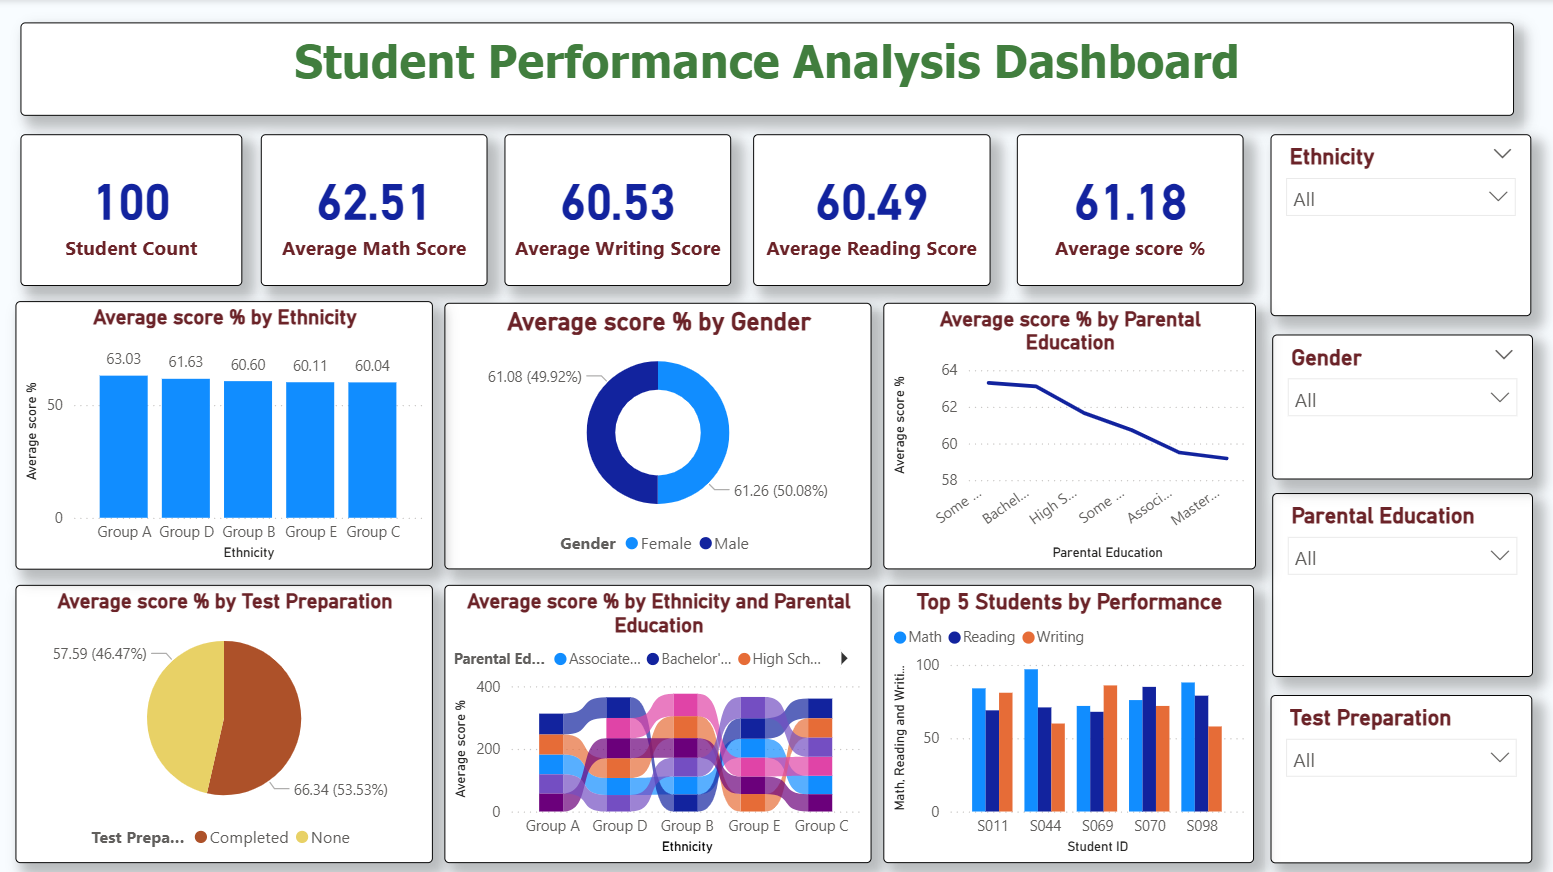

The dashboard page shown, as its layout file describes it:
{"tool":"powerbi","page":{"name":"Page 1","canvas":[1280,720],"ordinal":0},"visuals":[{"type":"textbox","box":[19.2,19.2,1228.1,76.8],"z":0},{"type":"card","fields":{"Values":["Sheet1.Student Count"]},"box":[19.2,111.1,182.5,124.9],"z":1000},{"type":"card","fields":{"Values":["Avg(Sheet1.Math Score)"]},"box":[216.8,111.1,186.6,124.9],"z":2000},{"type":"card","fields":{"Values":["Avg(Sheet1.Writing Score)"]},"box":[417.2,111.1,186.6,124.9],"z":3000},{"type":"card","fields":{"Values":["Avg(Sheet1.Reading Score)"]},"box":[621.6,111.1,194.9,124.9],"z":4000},{"type":"card","fields":{"Values":["Sheet1.Average score %"]},"box":[838.4,111.1,186.6,124.9],"z":5000},{"type":"slicer","fields":{"Values":["Sheet1.Ethnicity"]},"box":[1047,111.1,214.1,149.6],"z":6000},{"type":"slicer","fields":{"Values":["Sheet1.Parental Education"]},"box":[1048.4,406.2,214.1,150.9],"z":7000},{"type":"slicer","fields":{"Values":["Sheet1.Test Preparation"]},"box":[1047,572.2,215.4,138.6],"z":8000},{"type":"slicer","fields":{"Values":["Sheet1.Gender"]},"box":[1048.4,275.8,214.1,119.4],"z":9000},{"type":"donutChart","fields":{"Y":["Sheet1.Average score %"],"Category":["Sheet1.Gender"]},"box":[367.8,249.7,351.3,219.6],"z":10000},{"type":"pieChart","fields":{"Y":["Sheet1.Average score %"],"Category":["Sheet1.Test Preparation"]},"box":[19.2,481.6,338.9,229.2],"z":11000},{"type":"ribbonChart","fields":{"Y":["Sheet1.Average score %"],"Category":["Sheet1.Ethnicity"],"Series":["Sheet1.Parental Education"]},"box":[367.8,481.6,351.3,229.2],"z":12000},{"type":"columnChart","fields":{"Y":["Sheet1.Average score %"],"Category":["Sheet1.Ethnicity"]},"box":[19.2,248.4,338.9,220.9],"z":13000},{"type":"lineChart","fields":{"Category":["Sheet1.Parental Education"],"Y":["Sheet1.Average score %"]},"box":[728.6,249.7,306,219.6],"z":14000},{"type":"clusteredColumnChart","title":"Top 5 Students by Performance","fields":{"Category":["Sheet1.Student ID"],"Y":["Sum(Sheet1.Math Score)","Sum(Sheet1.Reading Score)","Sum(Sheet1.Writing Score)"]},"box":[728.6,481.6,304.6,229.2],"z":15000}]}

Visuals, with their boxes in screenshot pixels (x1, y1, x2, y2), scaled from the page's 1280x720 canvas onto the 1553x872 screenshot:
textbox: [left=23, top=23, right=1513, bottom=116]
card - Sheet1.Student Count: [left=23, top=135, right=245, bottom=286]
card - Avg(Sheet1.Math Score): [left=263, top=135, right=489, bottom=286]
card - Avg(Sheet1.Writing Score): [left=506, top=135, right=733, bottom=286]
card - Avg(Sheet1.Reading Score): [left=754, top=135, right=991, bottom=286]
card - Sheet1.Average score %: [left=1017, top=135, right=1244, bottom=286]
slicer - Sheet1.Ethnicity: [left=1270, top=135, right=1530, bottom=316]
slicer - Sheet1.Parental Education: [left=1272, top=492, right=1532, bottom=675]
slicer - Sheet1.Test Preparation: [left=1270, top=693, right=1532, bottom=861]
slicer - Sheet1.Gender: [left=1272, top=334, right=1532, bottom=479]
donutChart - Sheet1.Average score % x Sheet1.Gender: [left=446, top=302, right=872, bottom=568]
pieChart - Sheet1.Average score % x Sheet1.Test Preparation: [left=23, top=583, right=434, bottom=861]
ribbonChart - Sheet1.Average score % x Sheet1.Ethnicity: [left=446, top=583, right=872, bottom=861]
columnChart - Sheet1.Average score % x Sheet1.Ethnicity: [left=23, top=301, right=434, bottom=568]
lineChart - Sheet1.Parental Education x Sheet1.Average score %: [left=884, top=302, right=1255, bottom=568]
"Top 5 Students by Performance" clusteredColumnChart: [left=884, top=583, right=1254, bottom=861]
